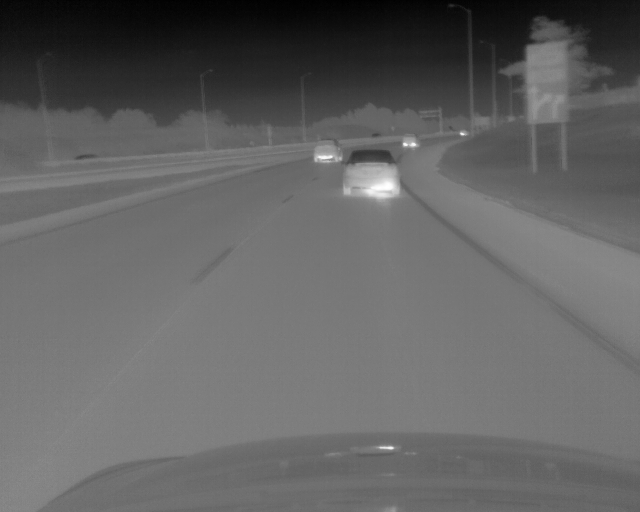car: (342, 149, 400, 196), (313, 138, 341, 163), (401, 133, 419, 148), (459, 130, 469, 137)
